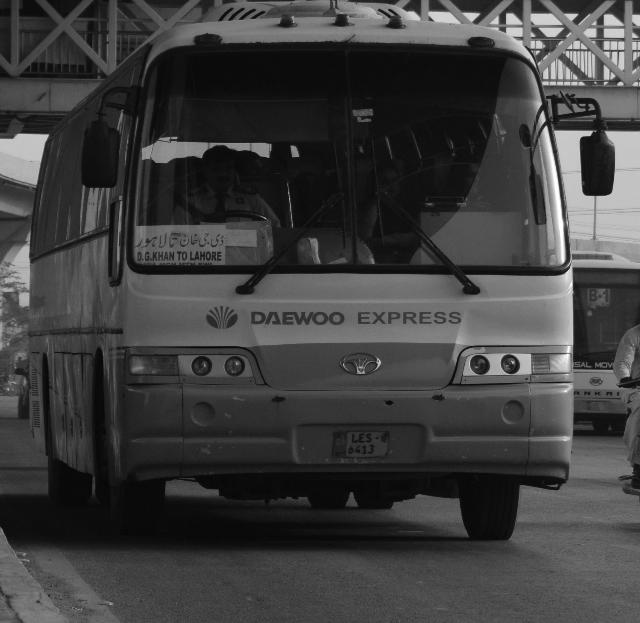Number: (346, 434, 376, 458)
